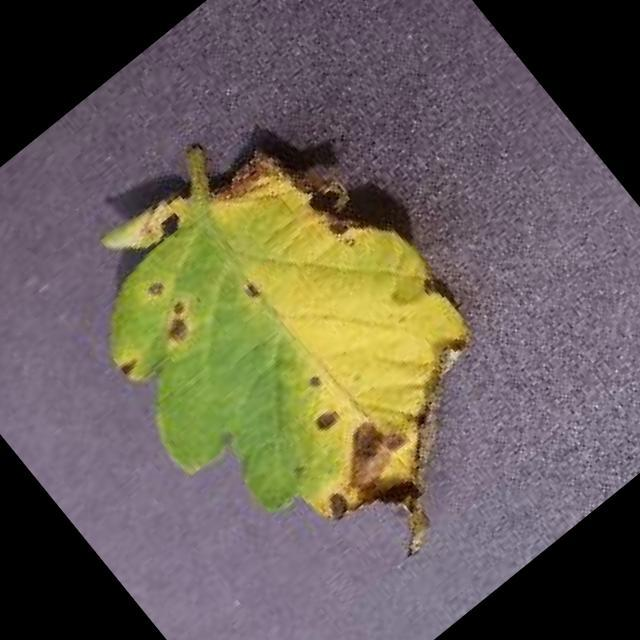Tomato Septoria spot leaf: (31, 79, 574, 638)
